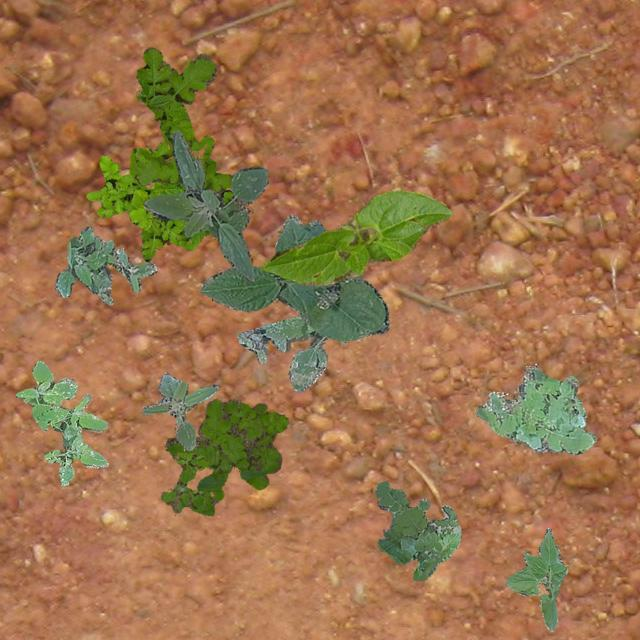crop: (198, 214, 388, 340), (262, 188, 450, 284), (506, 526, 566, 630)
weed: (142, 128, 266, 280), (86, 140, 232, 260), (128, 46, 232, 192), (165, 398, 288, 514), (14, 360, 108, 486), (474, 364, 596, 454), (374, 480, 459, 580), (54, 224, 156, 304), (236, 314, 326, 390), (140, 372, 217, 449), (160, 452, 208, 512)
